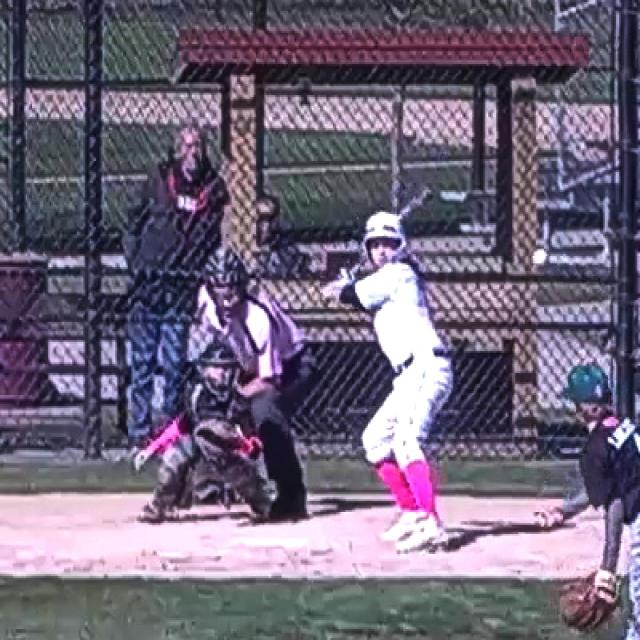baseball: (532, 250, 546, 264)
